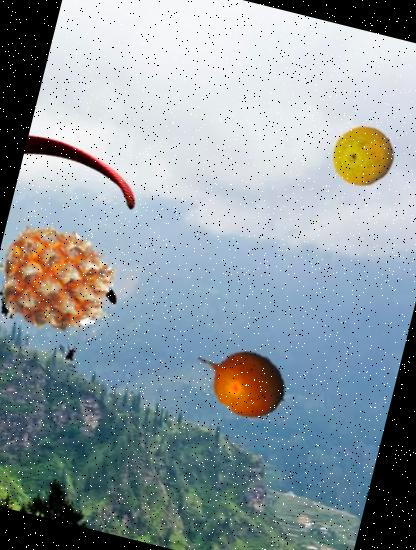Cantaloupe: (325, 118, 401, 194)
Granadilla: (184, 322, 298, 437)
Pineapple: (0, 208, 129, 351)
